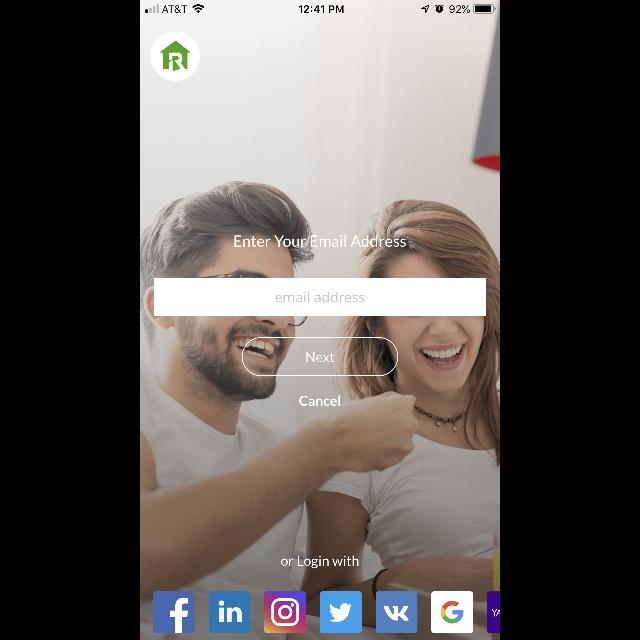backgroundimage: (140, 1, 500, 640)
icon: (151, 31, 201, 80), (153, 591, 195, 633), (320, 591, 362, 633), (431, 591, 473, 633)
image: (209, 591, 251, 633), (264, 591, 306, 633), (376, 591, 418, 633), (486, 591, 499, 633)
input: (154, 278, 486, 316)
text: (234, 235, 406, 247), (282, 556, 358, 568), (276, 292, 364, 302), (300, 396, 340, 406)
textbutton: (242, 338, 398, 377)
uppertaskbar: (140, 0, 500, 14)
